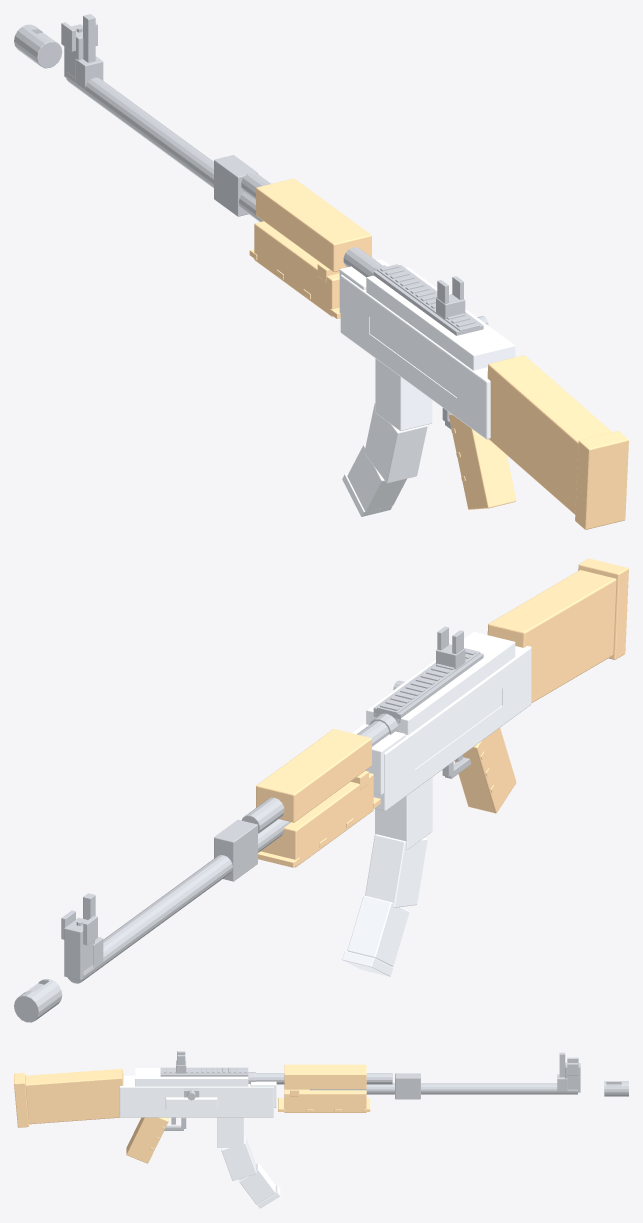
The picture shows the model from 3 angles, top to bottom: view 1: azimuth 30°, elevation 25°; view 2: azimuth 150°, elevation 25°; view 3: azimuth 270°, elevation 25°; orthographic projection. The views are drawn at different scales.
Visible parts, largest first — view 1: StockBody, Receiver, mag, HandguardTop, StockPlate, DustCover, Barrel, Grip, HandguardBottom, TopRail, StockIrons, GasBlock (+2 smaller); view 2: StockBody, mag, Receiver, HandguardTop, Barrel, HandguardBottom, DustCover, Grip, TopRail, GasBlock, StockPlate, StockIrons (+4 smaller); view 3: StockBody, Receiver, mag, Barrel, HandguardTop, HandguardBottom, DustCover, Grip, TopRail, GasBlock, SafetyLever, StockPlate (+4 smaller).
Boxes of the visible parts, left/top/right/bottom form: StockBody: left=487, top=355, right=611, bottom=514; Receiver: left=340, top=274, right=490, bottom=439; mag: left=342, top=358, right=432, bottom=516; HandguardTop: left=256, top=178, right=371, bottom=271; StockPlate: left=575, top=431, right=628, bottom=529; DustCover: left=366, top=267, right=515, bottom=370; Barrel: left=65, top=71, right=263, bottom=221; Grip: left=448, top=414, right=516, bottom=509; HandguardBottom: left=254, top=221, right=339, bottom=316; TopRail: left=373, top=264, right=483, bottom=335; StockIrons: left=75, top=14, right=465, bottom=318; GasBlock: left=214, top=155, right=257, bottom=216; StockBody: left=487, top=570, right=616, bottom=702; mag: left=342, top=777, right=432, bottom=976; Receiver: left=373, top=646, right=531, bottom=811; HandguardTop: left=256, top=729, right=371, bottom=822; Barrel: left=67, top=819, right=291, bottom=983; HandguardBottom: left=261, top=773, right=373, bottom=867; DustCover: left=366, top=632, right=515, bottom=734; Grip: left=454, top=728, right=516, bottom=813; TopRail: left=373, top=648, right=483, bottom=722; GasBlock: left=214, top=819, right=257, bottom=881; StockPlate: left=578, top=558, right=628, bottom=659; StockIrons: left=83, top=626, right=465, bottom=967; StockBody: left=25, top=1069, right=123, bottom=1124; Receiver: left=119, top=1075, right=273, bottom=1117; mag: left=217, top=1117, right=280, bottom=1208; Barrel: left=310, top=1083, right=577, bottom=1094; HandguardTop: left=284, top=1064, right=366, bottom=1089; HandguardBottom: left=284, top=1089, right=366, bottom=1112; DustCover: left=135, top=1068, right=248, bottom=1086; Grip: left=126, top=1117, right=168, bottom=1163; TopRail: left=160, top=1067, right=248, bottom=1076; GasBlock: left=395, top=1073, right=420, bottom=1099; SafetyLever: left=165, top=1097, right=217, bottom=1109; StockPlate: left=14, top=1073, right=28, bottom=1127.
Size of the model in its own units: 0.079 by 0.3244 by 1.19.
